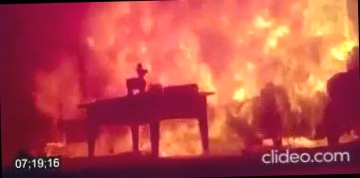fire: (38, 0, 360, 150)
